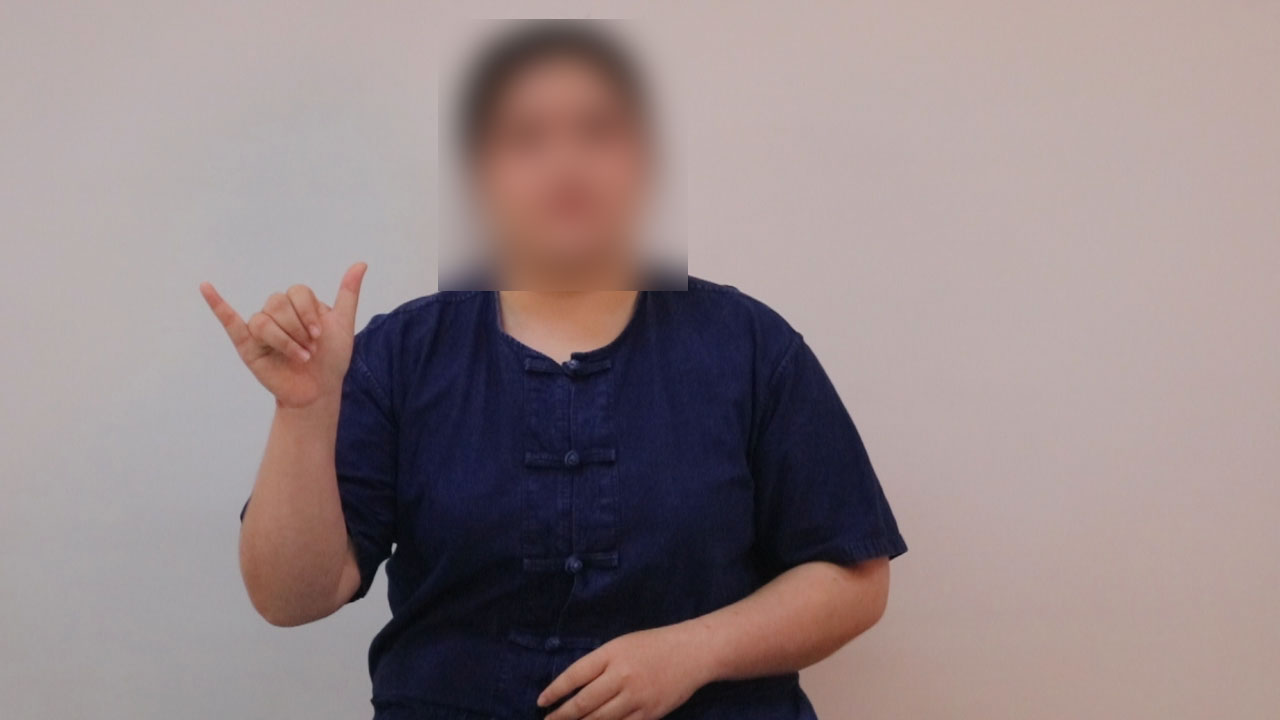yor: (186, 267, 381, 413)
